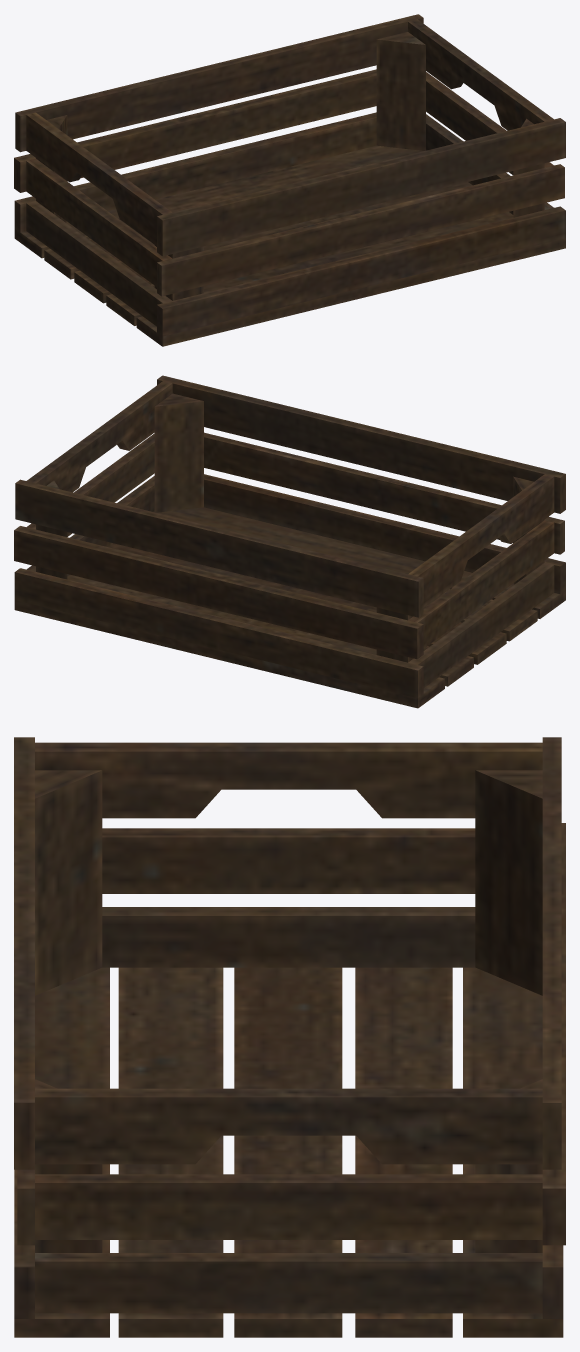
The model's file is supply_crate_1_empty.obj.
3 renders of one model, top to bottom at view 1: azimuth 30°, elevation 25°; view 2: azimuth 150°, elevation 25°; view 3: azimuth 270°, elevation 25°, orthographic. The views are drawn at different scales.
Visible parts, largest first — view 1: supply_crate_1_empty; view 2: supply_crate_1_empty; view 3: supply_crate_1_empty.
Boxes of the visible parts, <box> form: supply_crate_1_empty: <box>14,14,565,346</box>; supply_crate_1_empty: <box>14,375,565,708</box>; supply_crate_1_empty: <box>14,737,565,1337</box>.
Bounding box in the file's own units: 0.668 × 0.2 × 0.4262.
